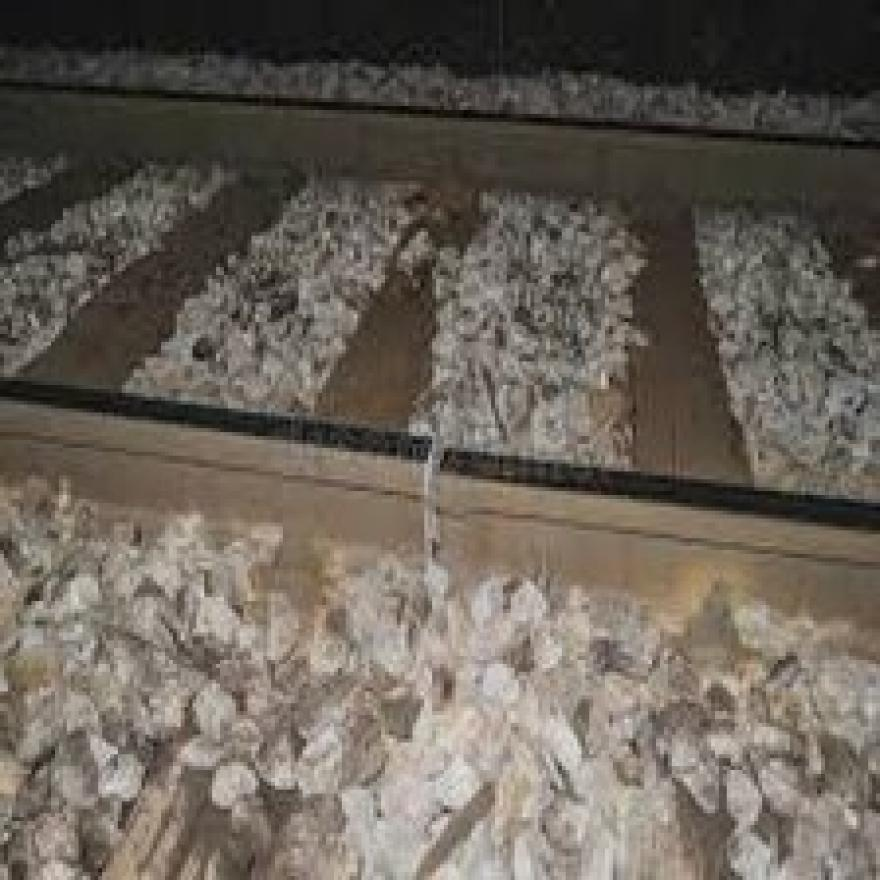railway-gap: (391, 402, 488, 602)
